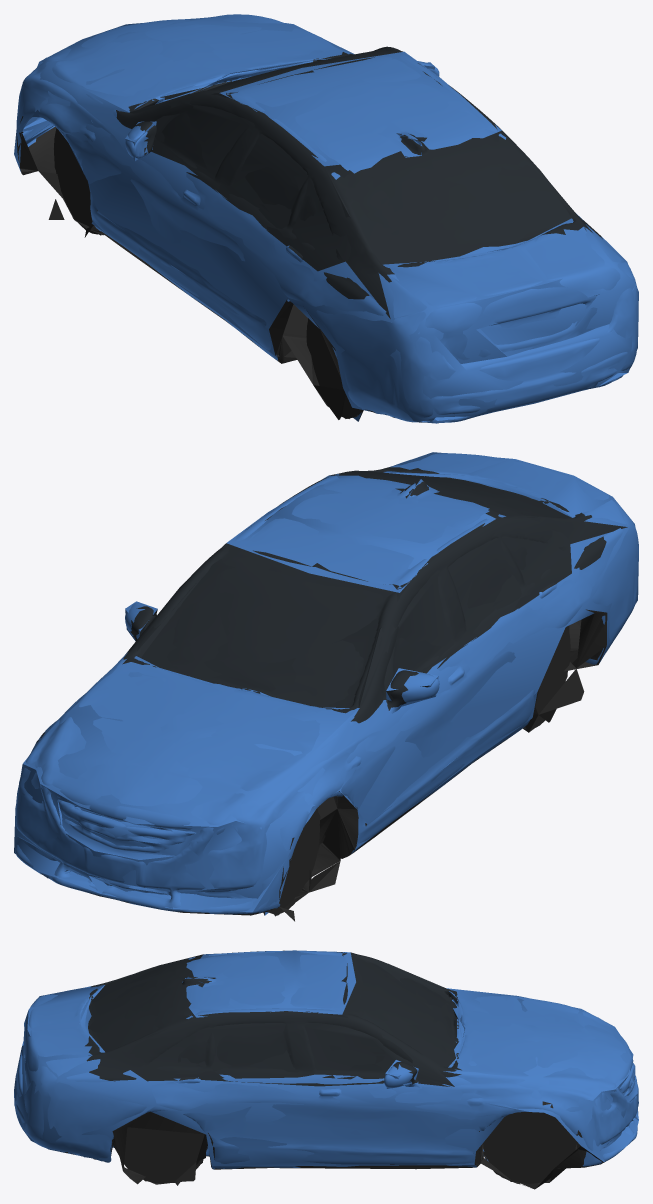
File: cadillac-ct6.glb
The picture shows the model from 3 angles, top to bottom: view 1: azimuth 30°, elevation 25°; view 2: azimuth 150°, elevation 25°; view 3: azimuth 270°, elevation 25°; orthographic projection. The views are drawn at different scales.
Visible parts, largest first — view 1: body, far; view 2: body, far; view 3: body, far.
Part boxes in pixels (box(x1,y1,x2,y2)): body: box(15, 14, 638, 423); far: box(14, 16, 638, 422); body: box(15, 453, 638, 921); far: box(14, 452, 638, 916); body: box(14, 950, 638, 1184); far: box(14, 950, 638, 1189).
Size of the model in its own units: 2.19 by 1.65 by 5.26.
